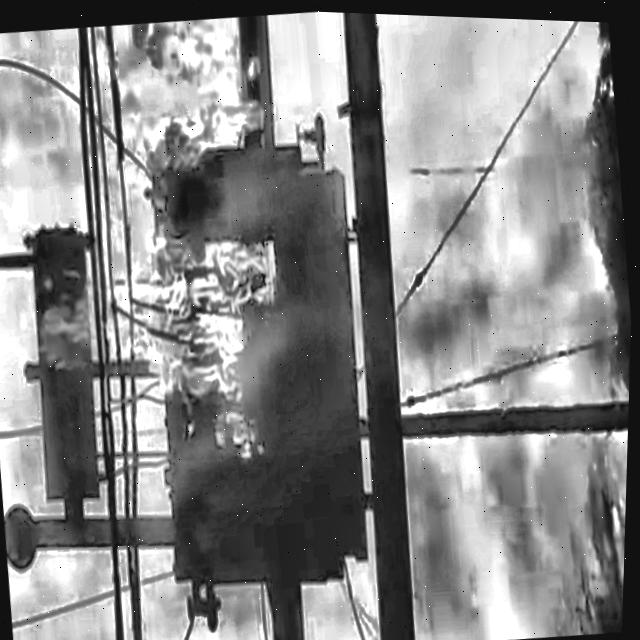Fire: (0, 2, 335, 512)
